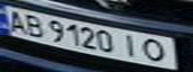0: (97, 27, 118, 54)
1: (60, 20, 81, 47)
2: (78, 25, 96, 51)
9: (42, 17, 66, 43)
A: (3, 7, 30, 34)
B: (21, 11, 48, 38)
I: (118, 32, 145, 58)
O: (139, 36, 175, 64)
